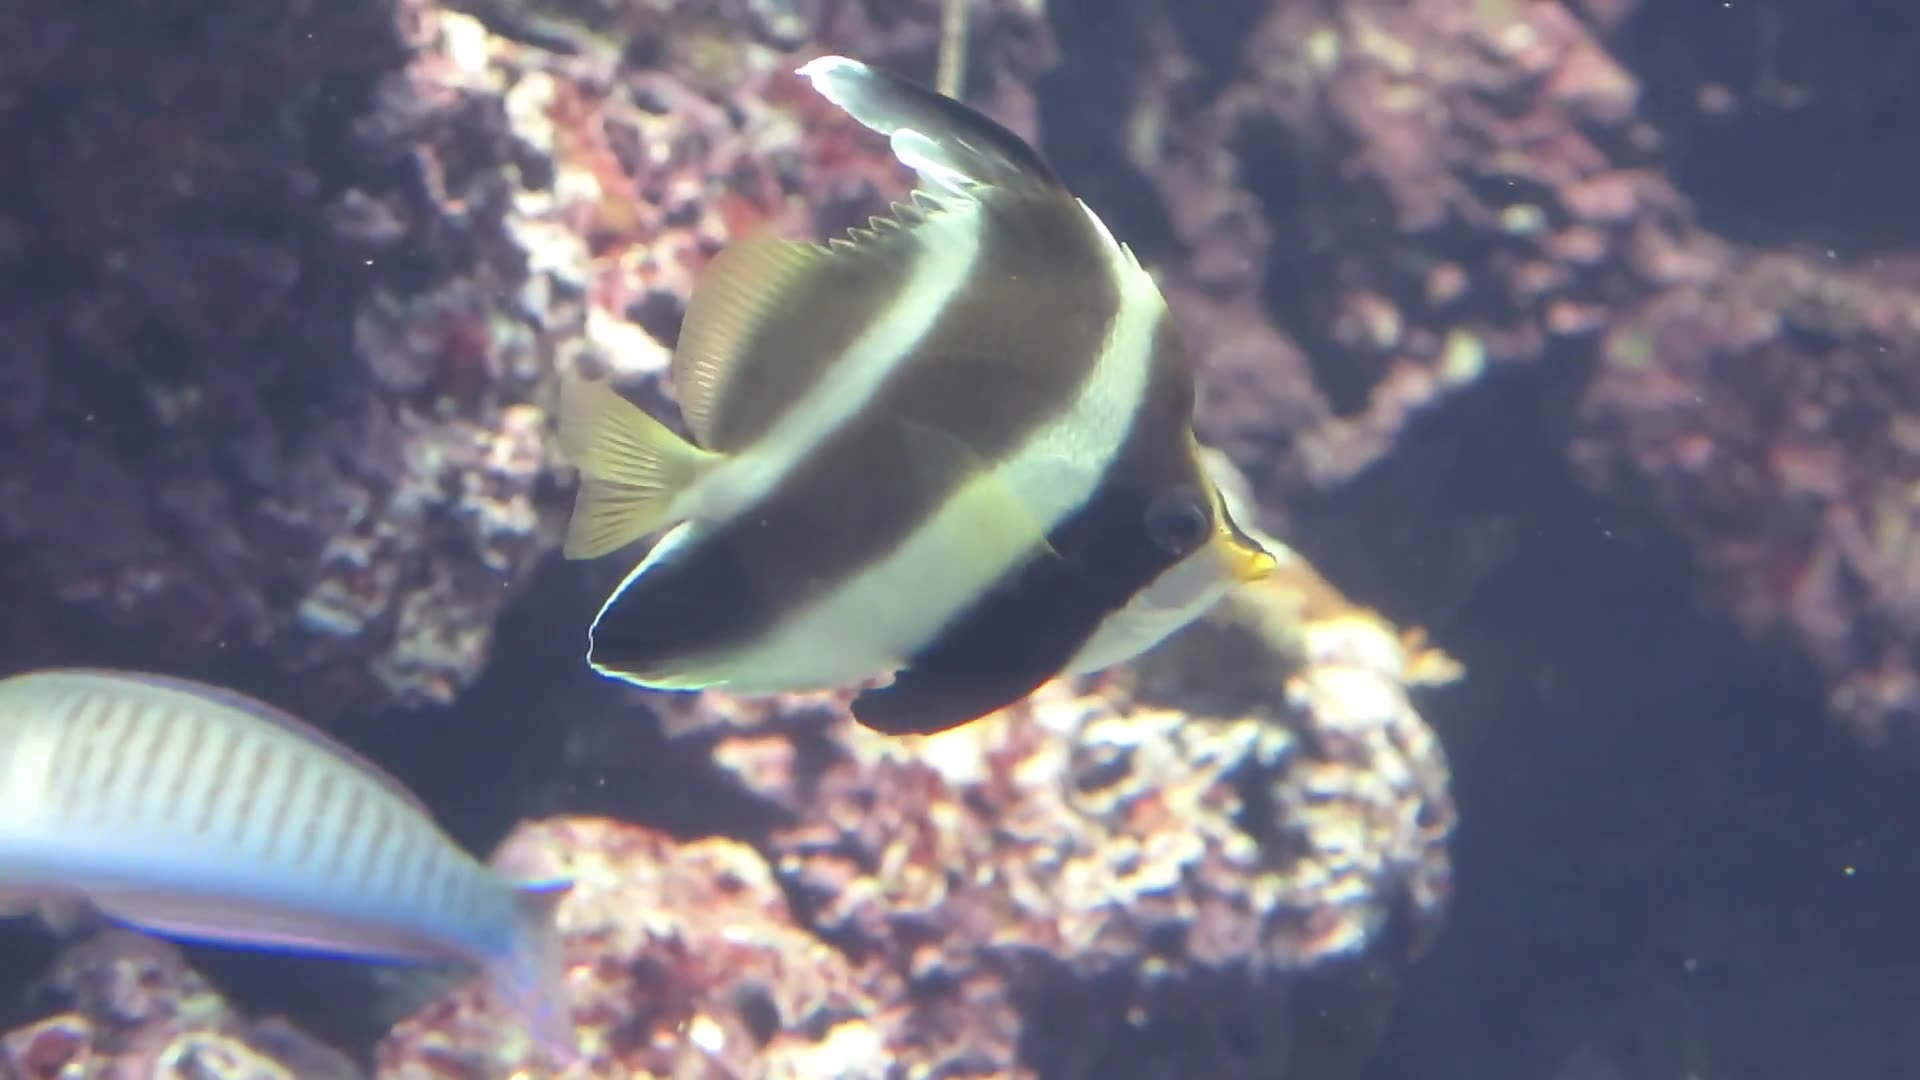Heniochus chrysostomus: (526, 37, 1317, 775)
